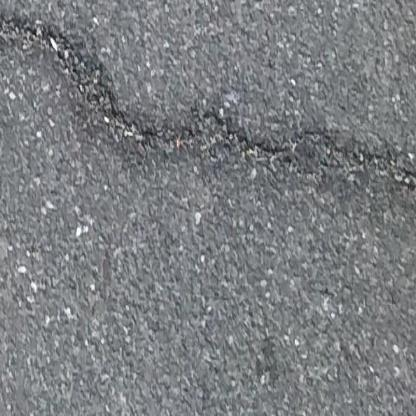Cracks: (202, 110, 416, 237), (0, 15, 202, 146)
